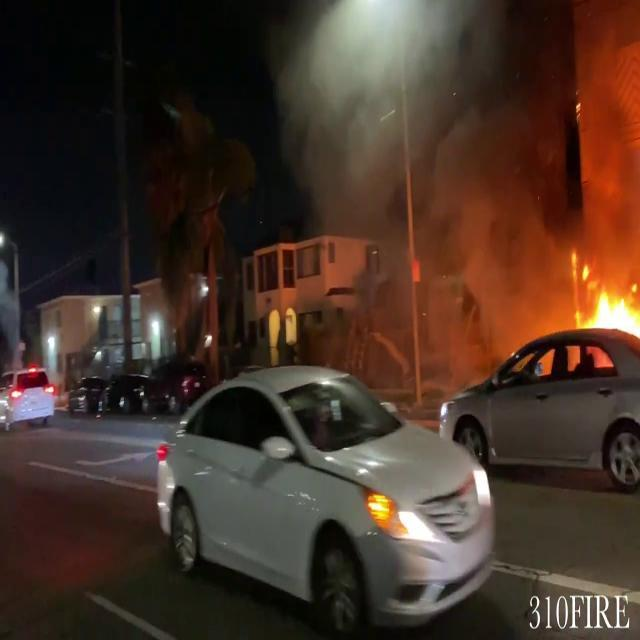Fire: (567, 262, 640, 349)
Smoke: (272, 0, 640, 332)
